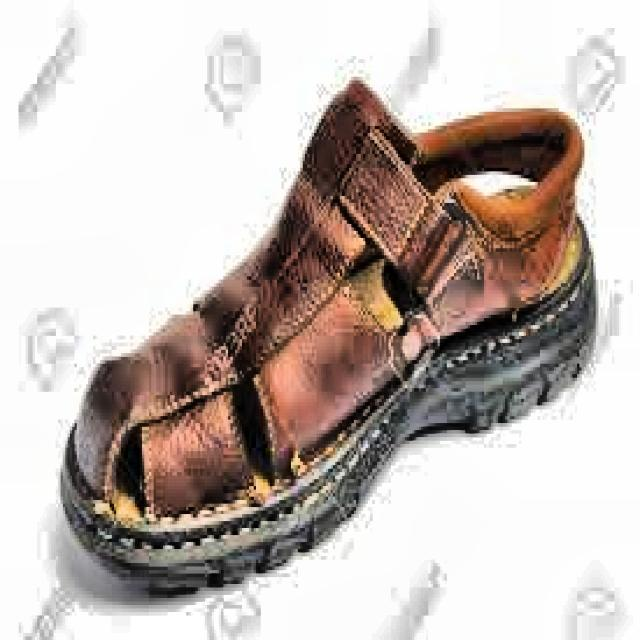shoes: (44, 69, 607, 609)
